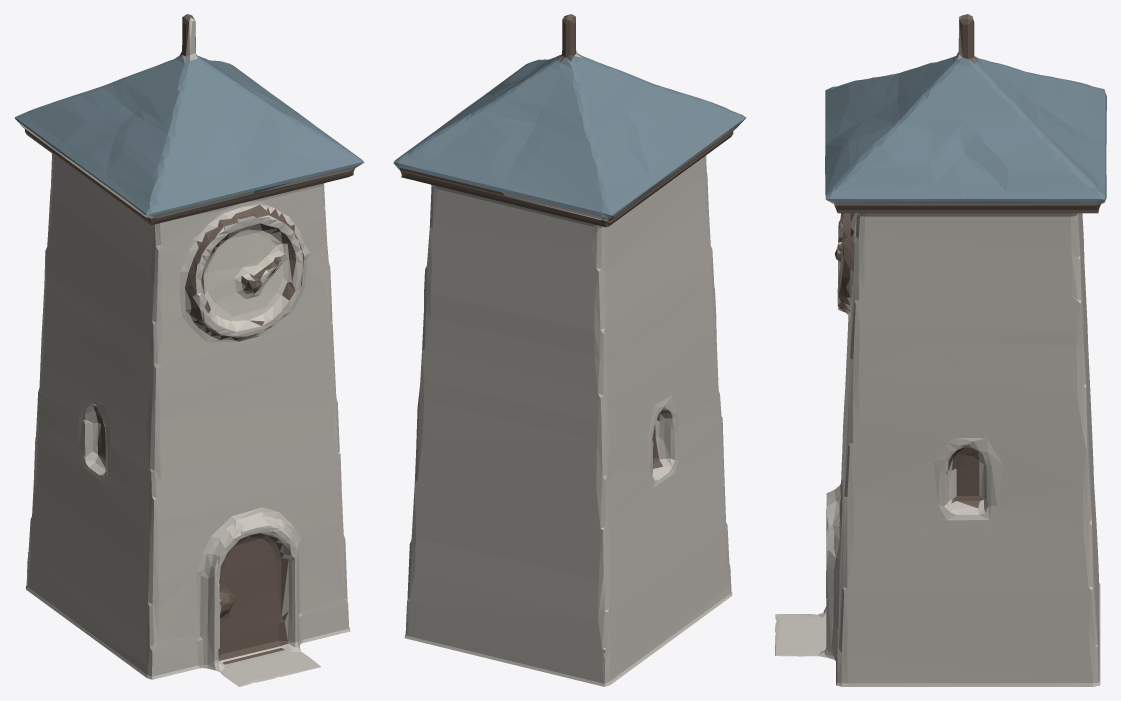
The picture shows the model from 3 angles, left to right: view 1: azimuth 30°, elevation 25°; view 2: azimuth 150°, elevation 25°; view 3: azimuth 270°, elevation 25°; orthographic projection. The views are drawn at different scales.
Visible parts, largest first — view 1: geometry_0; view 2: geometry_0; view 3: geometry_0.
Boxes of the visible parts, bbox=[...] form: geometry_0: bbox=[14, 14, 364, 686]; geometry_0: bbox=[393, 14, 746, 686]; geometry_0: bbox=[775, 14, 1106, 686].
Bounding box in the file's own units: 0.3648 × 0.9557 × 0.4629.
